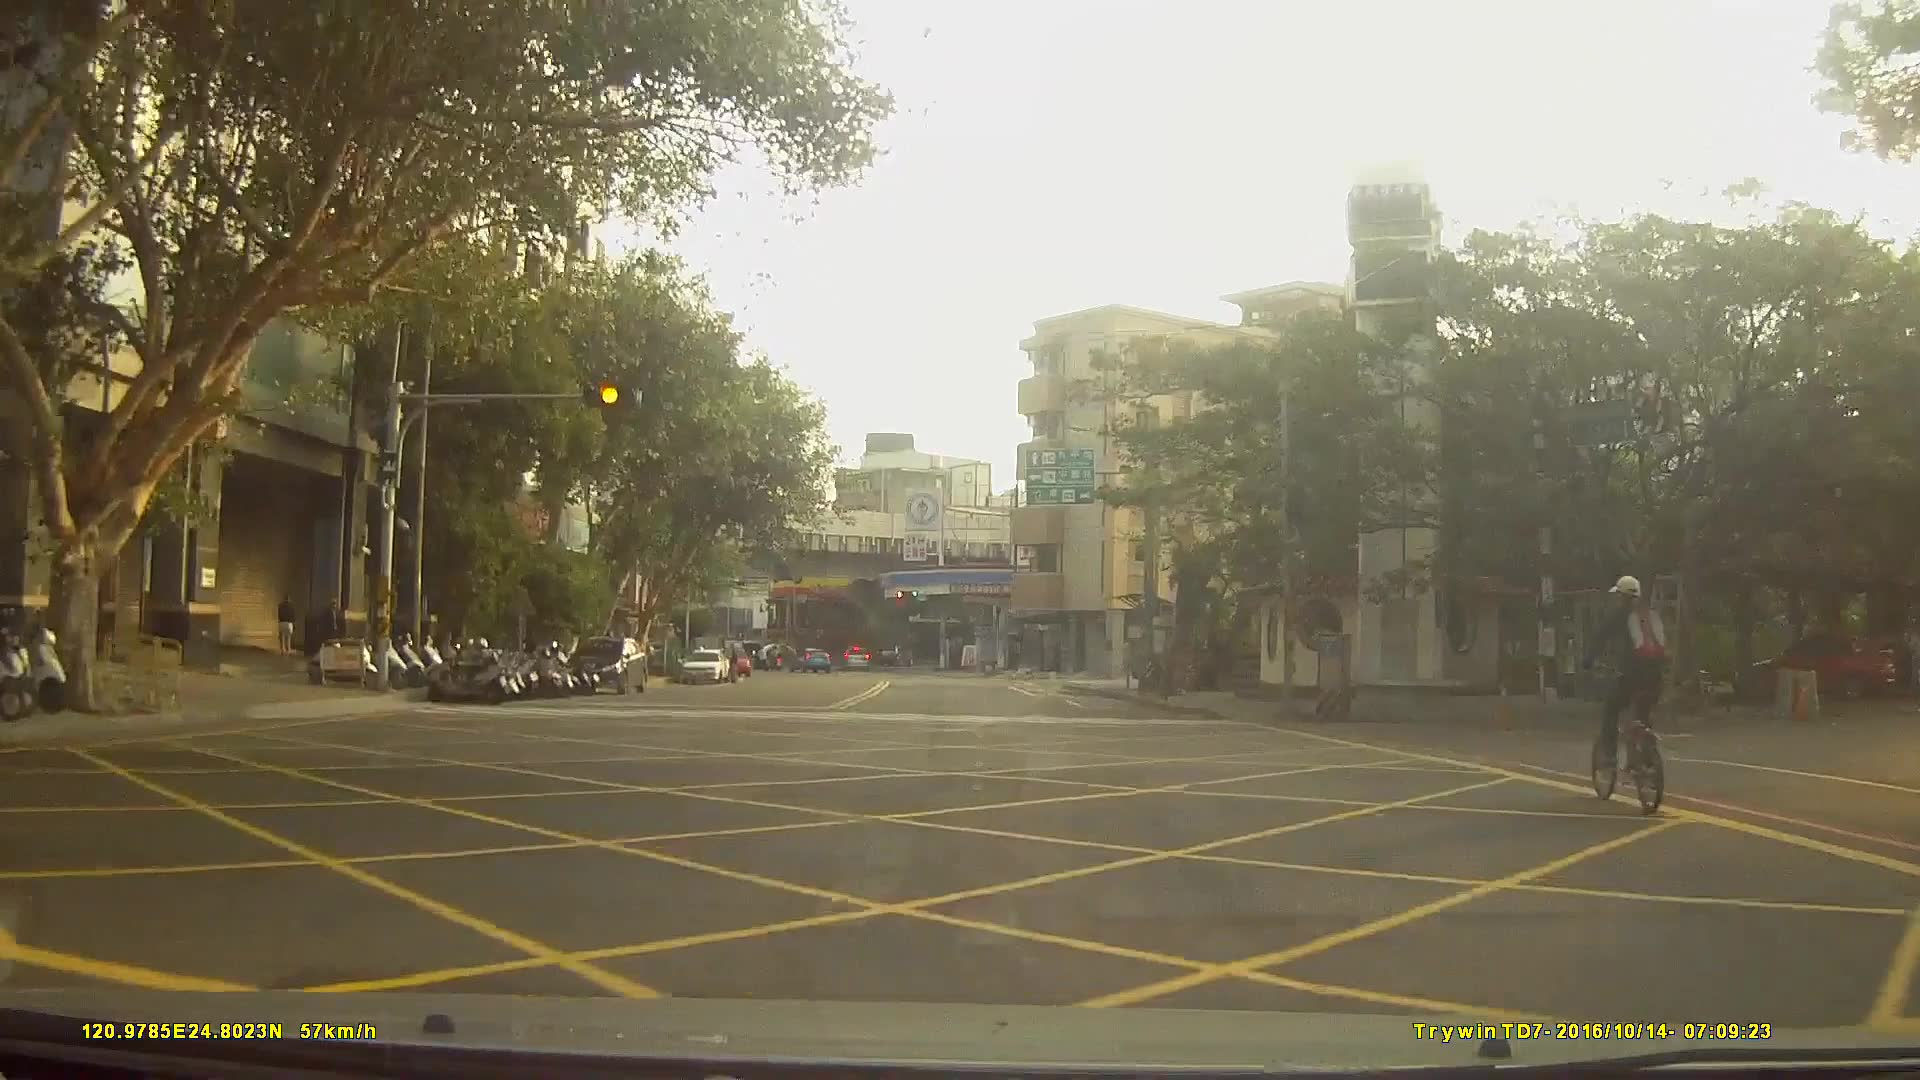pedestrian: (276, 597, 297, 659)
rider: (1574, 575, 1671, 816)
vehicle: (1733, 626, 1896, 700), (566, 635, 647, 694), (680, 646, 730, 684), (790, 643, 830, 671), (841, 644, 870, 672)
